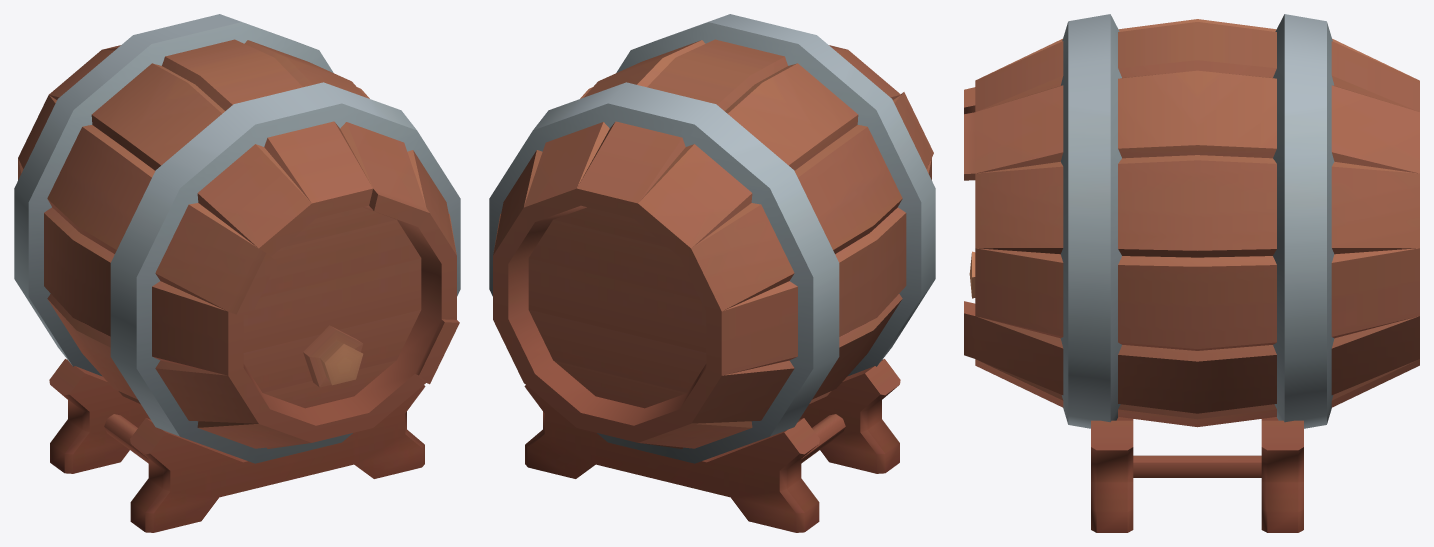
Rendered from keg-gltf.glb.
3 renders of one model, left to right at view 1: azimuth 30°, elevation 25°; view 2: azimuth 150°, elevation 25°; view 3: azimuth 270°, elevation 25°, orthographic. The views are drawn at different scales.
Visible parts, largest first — view 1: keg; view 2: keg; view 3: keg.
Boxes of the visible parts, bbox=[...] form: keg: bbox=[14, 14, 460, 532]; keg: bbox=[489, 14, 935, 532]; keg: bbox=[964, 14, 1419, 532].
Size of the model in its own units: 1.8 by 2.05 by 2.
1 material, 1 textured.
